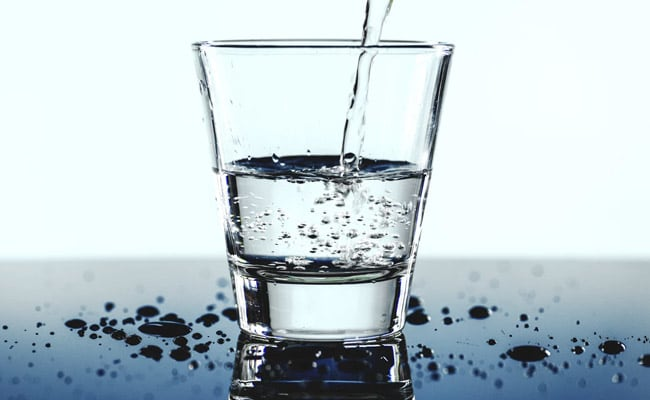glass of water: (192, 41, 453, 338)
